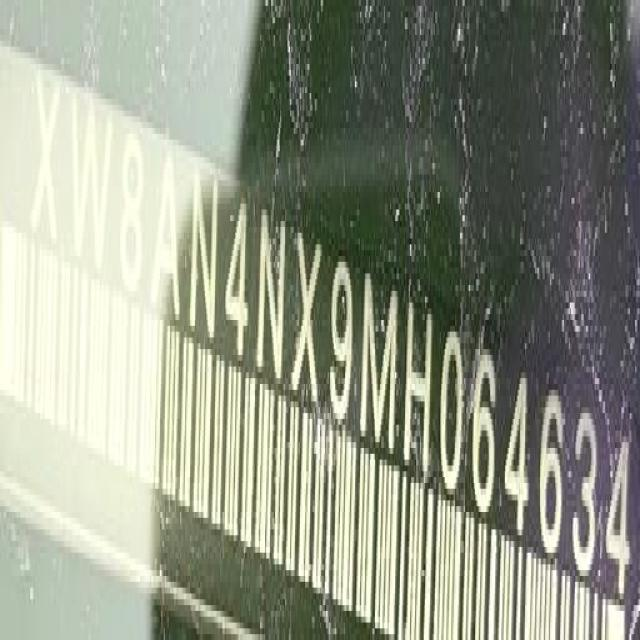0: (440, 327, 466, 506)
3: (574, 404, 599, 580)
4: (608, 424, 633, 602), (223, 191, 249, 362), (507, 370, 531, 543)
6: (540, 386, 568, 563), (472, 345, 498, 522)
8: (117, 126, 146, 296)
9: (328, 253, 354, 433)
A: (150, 154, 182, 323)
H: (405, 305, 434, 480)
M: (360, 271, 398, 462)
N: (254, 207, 286, 390), (189, 174, 220, 342)
W: (69, 92, 115, 274)
X: (30, 74, 64, 255), (295, 226, 322, 408)
